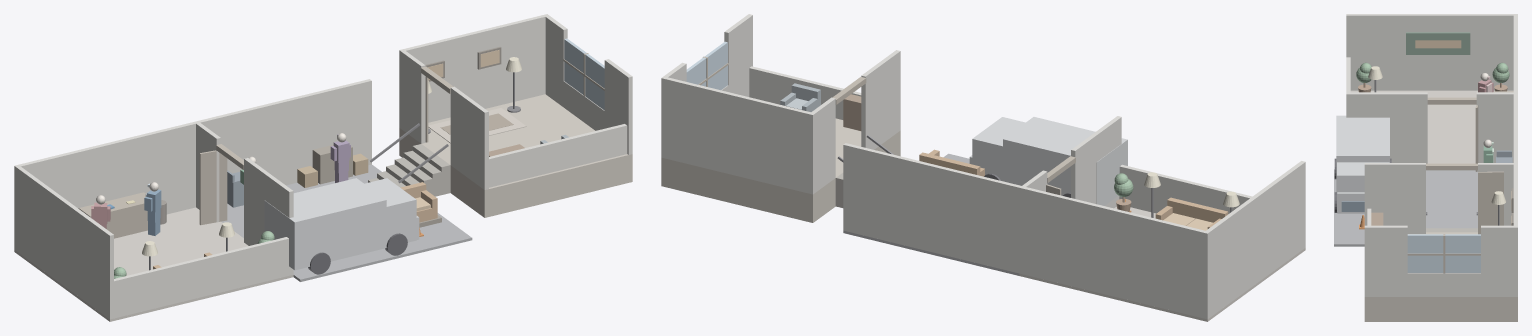
3 renders of one model, left to right at view 1: azimuth 30°, elevation 25°; view 2: azimuth 150°, elevation 25°; view 3: azimuth 270°, elevation 25°, orthographic. The views are drawn at different scales.
Parts seen in each view (by area): view 1: S02_Wall_North, S01_Wall_North, S03_Floor, S01_Wall_West, S03_Wall_North, V01_DeliveryVan, S01_Wall_South, S01_Floor, S03_Wall_South, S02_Floor, S03_Wall_West_S, S01_Wall_East_S (+15 smaller); view 2: S01_Wall_North, S02_Wall_North, S03_Wall_North, S01_Wall_West, S03_Floor, V01_DeliveryVan, S03_Wall_West_S, S01_Wall_South, S01_Wall_East_S, S03_Wall_West_N, S03_Wall_South, V01_DeliveryVan_Cab (+10 smaller); view 3: S01_Wall_West, S02_Floor, S03_Floor, S03_Wall_West_S, S01_Wall_East_S, S03_Wall_East_Low, S01_Floor, S03_Window, V01_DeliveryVan, S01_Wall_East_N, S03_Wall_East_S, S03_Wall_East_N (+21 smaller).
Boxes of the visible parts, <box> form: S02_Wall_North: <box>198,79,371,185</box>; S01_Wall_North: <box>14,121,199,214</box>; S03_Floor: <box>399,94,632,217</box>; S01_Wall_West: <box>14,166,113,319</box>; S03_Wall_North: <box>399,14,549,128</box>; V01_DeliveryVan: <box>264,178,386,270</box>; S01_Wall_South: <box>107,237,289,319</box>; S01_Floor: <box>14,207,293,321</box>; S03_Wall_South: <box>489,124,627,187</box>; S02_Floor: <box>221,164,472,281</box>; S03_Wall_West_S: <box>450,86,488,189</box>; S01_Wall_East_S: <box>244,158,293,275</box>; S01_Wall_North: <box>1019,186,1209,319</box>; S02_Wall_North: <box>843,143,1021,273</box>; S03_Wall_North: <box>661,76,814,194</box>; S01_Wall_West: <box>1206,161,1305,318</box>; S03_Floor: <box>661,118,900,222</box>; V01_DeliveryVan: <box>1003,117,1127,205</box>; S03_Wall_West_S: <box>861,50,900,149</box>; S01_Wall_South: <box>1119,164,1252,213</box>; S01_Wall_East_S: <box>1071,116,1121,208</box>; S03_Wall_West_N: <box>808,97,835,194</box>; S03_Wall_South: <box>749,66,861,119</box>; V01_DeliveryVan_Cab: <box>972,117,1025,181</box>; S01_Wall_West: <box>1346,14,1513,90</box>; S02_Floor: <box>1334,169,1477,246</box>; S03_Floor: <box>1364,232,1517,321</box>; S03_Wall_West_S: <box>1364,163,1425,233</box>; S01_Wall_East_S: <box>1346,92,1427,163</box>; S03_Wall_East_Low: <box>1364,273,1517,296</box>; S01_Floor: <box>1350,90,1513,163</box>; S03_Window: <box>1407,234,1480,272</box>; V01_DeliveryVan: <box>1336,115,1389,192</box>; S01_Wall_East_N: <box>1476,92,1513,162</box>; S03_Wall_East_S: <box>1364,225,1407,273</box>; S03_Wall_East_N: <box>1481,225,1513,273</box>.
Bounding box in the file's own units: 18 × 3.48 × 6.
